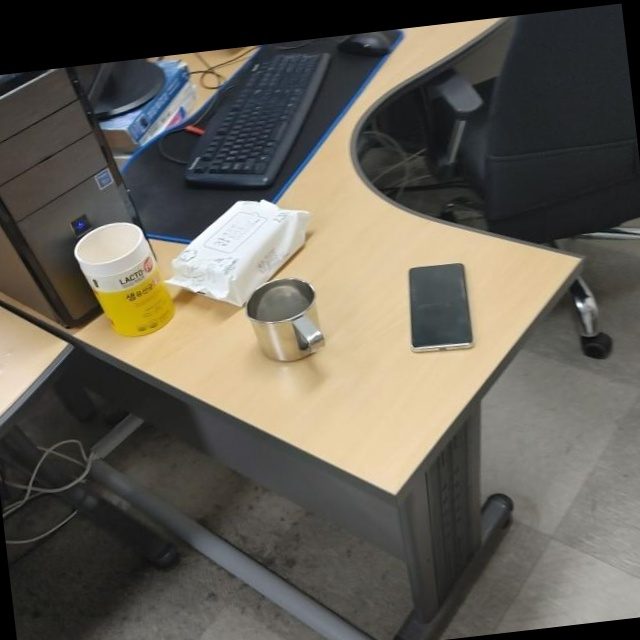cup: (241, 274, 331, 367)
phone: (401, 259, 477, 356)
